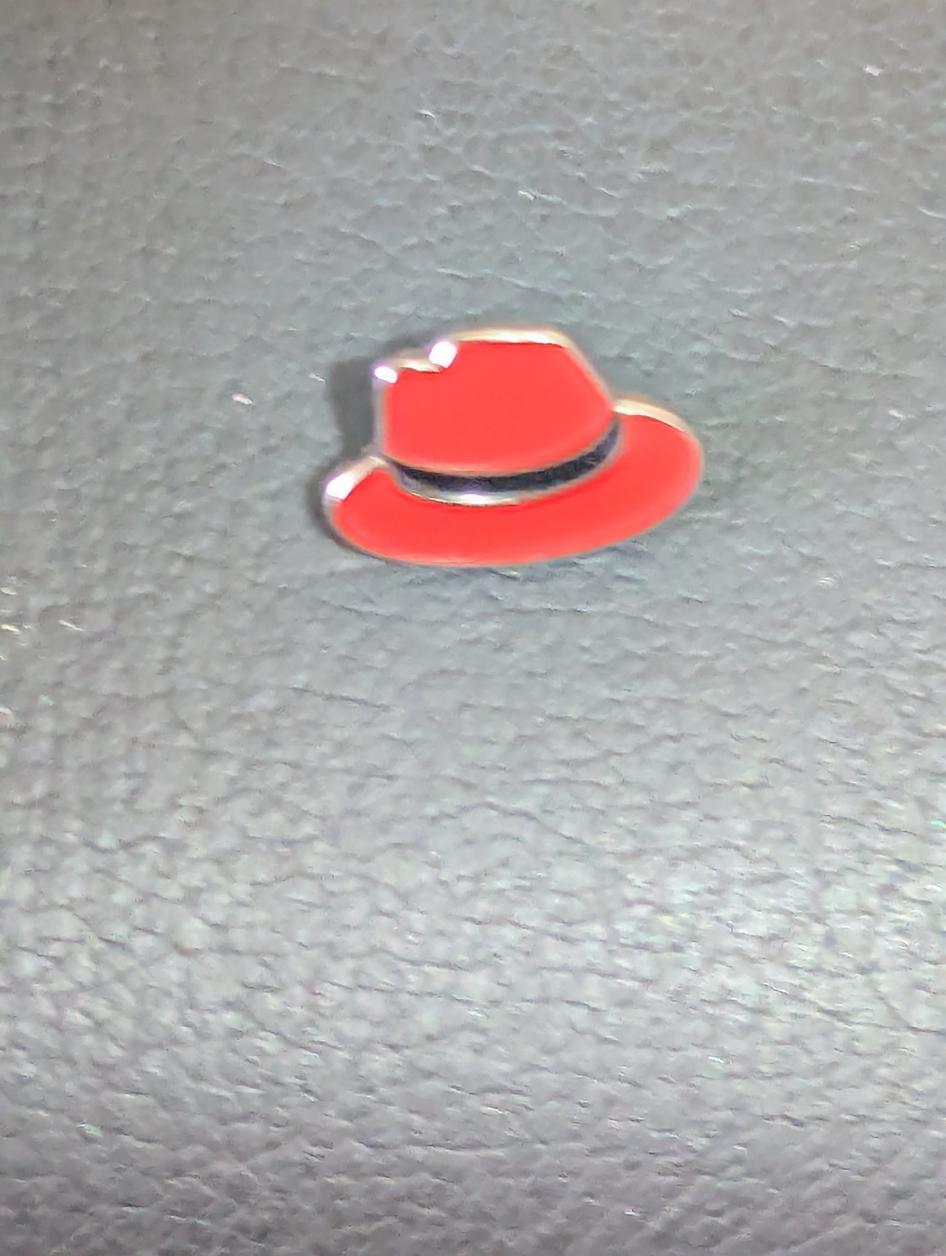Red-Hat: (199, 252, 851, 678)
